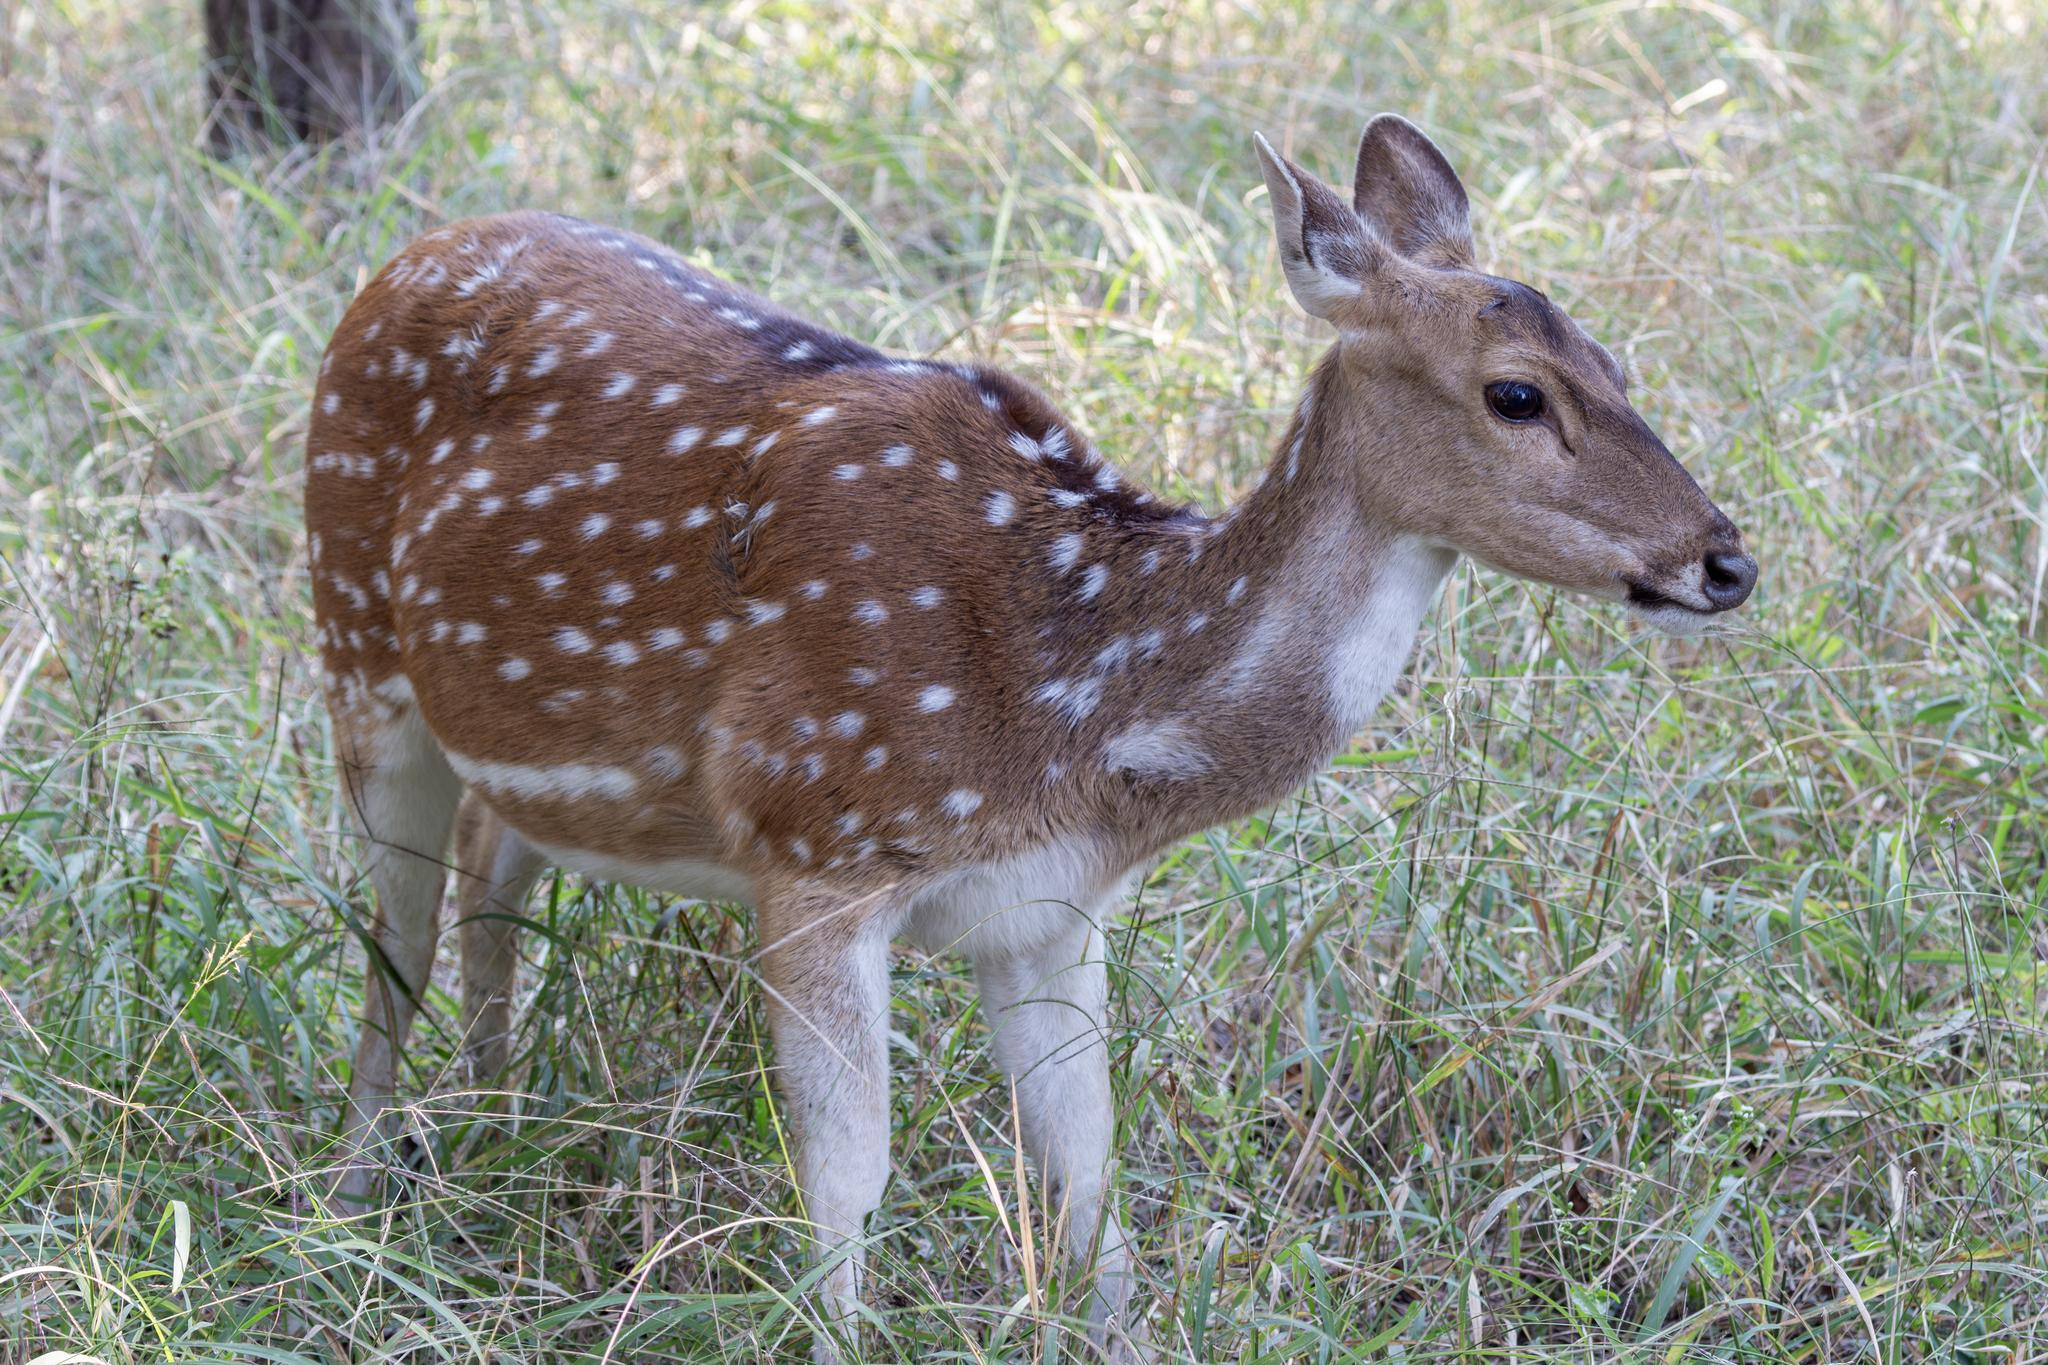Deer: (305, 117, 1756, 1360)
